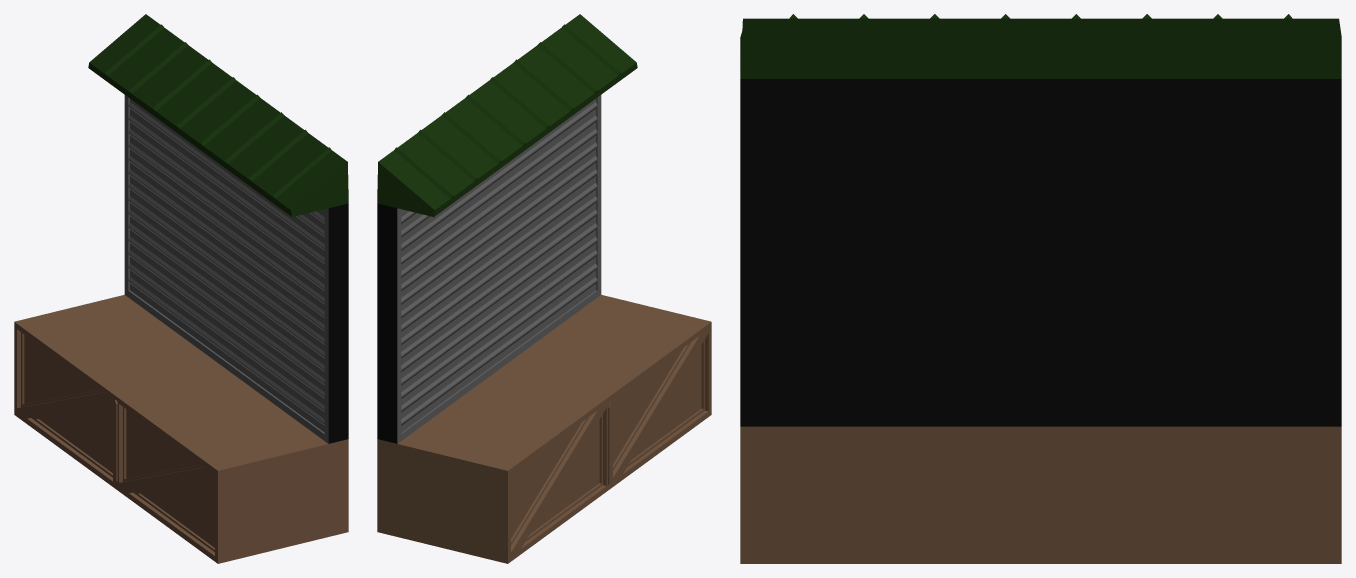
The model's file is Market.fbx.
3 renders of one model, left to right at view 1: azimuth 30°, elevation 25°; view 2: azimuth 150°, elevation 25°; view 3: azimuth 270°, elevation 25°, orthographic. The views are drawn at different scales.
Parts seen in each view (by area): view 1: Market, Market Door, Awning, Market Wall; view 2: Market, Market Door, Awning, Market Wall; view 3: Market Wall, Market, Awning.
Part boxes in pixels (x1,y1,x2,y2): Market: (14,295,348,563); Market Door: (124,95,328,443); Awning: (88,14,348,216); Market Wall: (328,203,348,443); Market: (377,295,711,563); Market Door: (397,95,601,443); Awning: (377,14,637,216); Market Wall: (377,203,397,443); Market Wall: (740,79,1341,426); Market: (740,426,1341,563); Awning: (740,14,1341,78).
Bounding box in the file's own units: 202 × 544 × 540.
